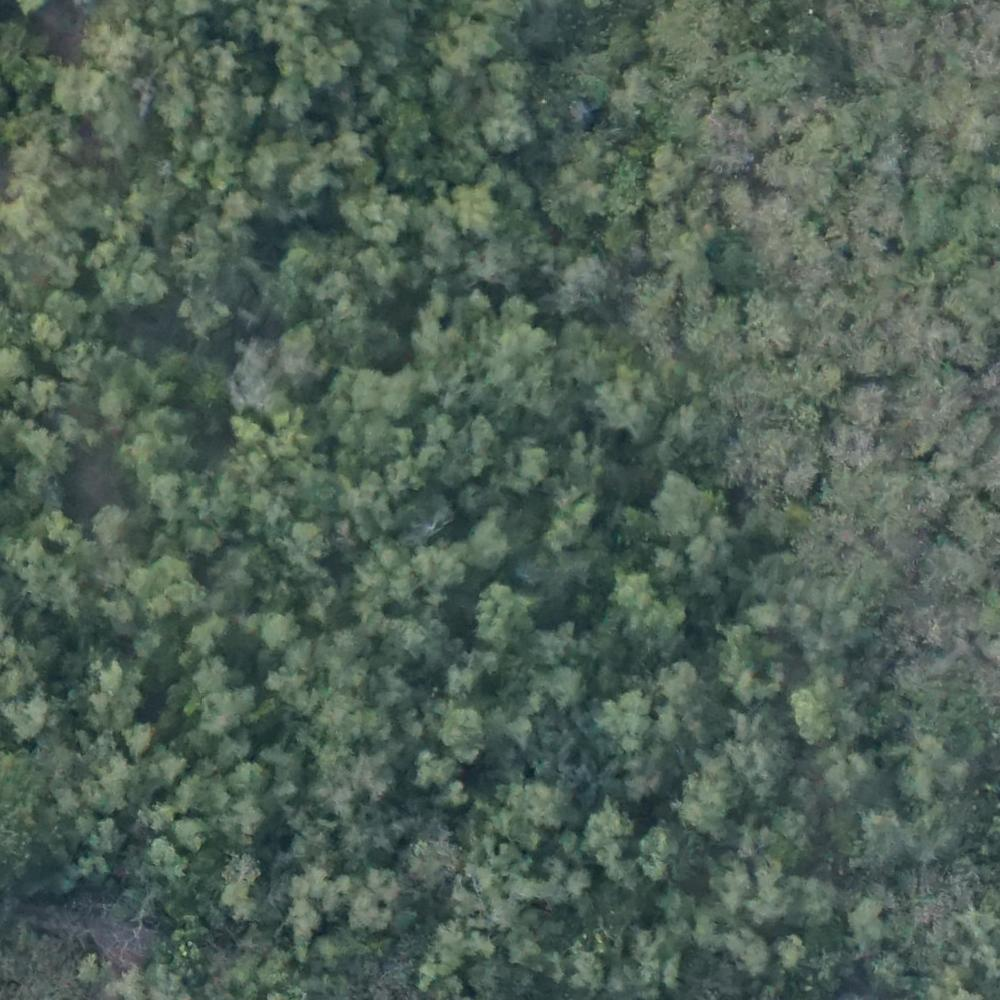tree: (91, 243, 164, 305), (718, 862, 788, 925), (600, 369, 666, 433), (346, 179, 410, 240), (130, 561, 197, 619), (735, 727, 798, 787), (733, 295, 796, 355), (600, 684, 659, 748), (491, 438, 553, 498), (455, 518, 524, 567), (682, 770, 739, 829), (486, 98, 544, 155), (642, 143, 698, 202), (414, 543, 471, 600), (480, 588, 534, 646), (653, 475, 708, 527), (689, 299, 740, 354), (410, 836, 465, 884), (439, 709, 490, 760), (581, 816, 633, 866), (56, 66, 108, 115), (790, 692, 839, 744), (194, 693, 248, 737), (537, 660, 586, 708), (923, 318, 970, 368), (446, 184, 497, 230), (179, 294, 234, 335), (845, 899, 896, 942), (635, 607, 681, 651), (827, 421, 871, 467), (89, 502, 136, 545), (262, 610, 302, 660), (492, 52, 536, 97), (611, 568, 653, 613), (839, 388, 896, 420), (270, 77, 313, 119), (224, 797, 272, 834), (348, 367, 390, 409), (637, 838, 678, 879), (554, 488, 600, 524), (191, 620, 233, 654), (189, 659, 225, 694), (323, 872, 356, 908), (98, 386, 131, 420)
